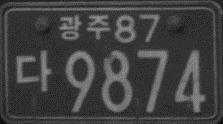4: (173, 49, 207, 111)
7: (136, 48, 168, 114), (137, 13, 160, 43)
8: (99, 49, 132, 112), (114, 13, 135, 43)
9: (62, 48, 97, 111)
광주_O: (58, 12, 111, 42)
다: (14, 48, 52, 92)
